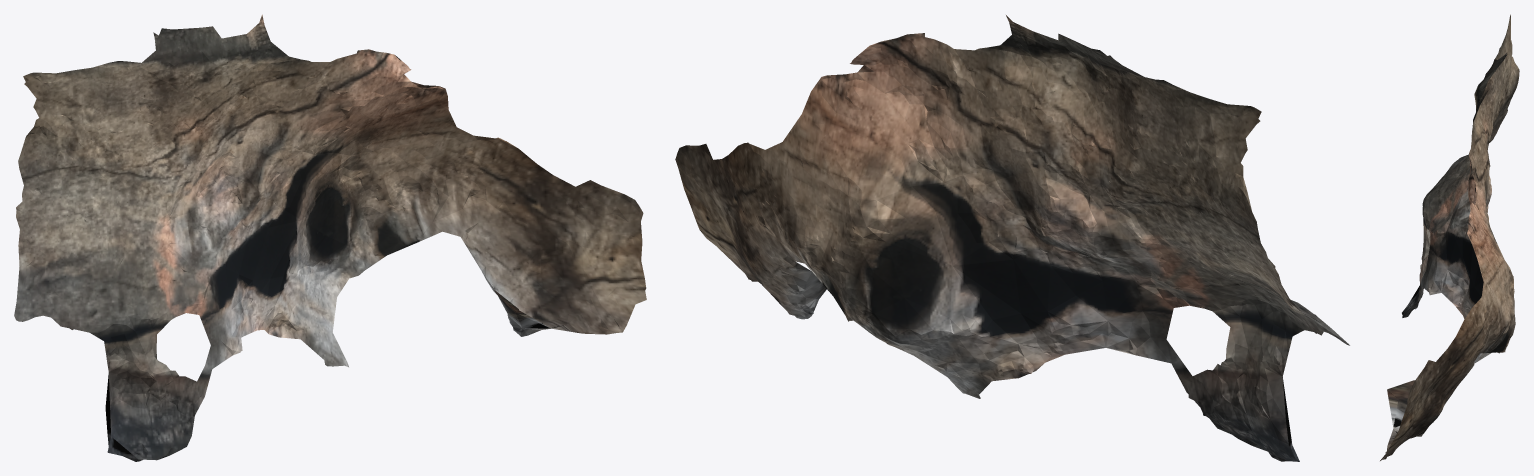
3 renders of one model, left to right at view 1: azimuth 30°, elevation 25°; view 2: azimuth 150°, elevation 25°; view 3: azimuth 270°, elevation 25°, orthographic. The views are drawn at different scales.
Parts seen in each view (by area): view 1: TexturedMesh; view 2: TexturedMesh; view 3: TexturedMesh.
Part boxes in pixels (left/top/right/bottom): TexturedMesh: left=14, top=14, right=646, bottom=461; TexturedMesh: left=675, top=15, right=1349, bottom=461; TexturedMesh: left=1380, top=14, right=1519, bottom=460.
Bounding box in the file's own units: 2.26 × 1.33 × 0.5889.
1 material, 1 textured.
